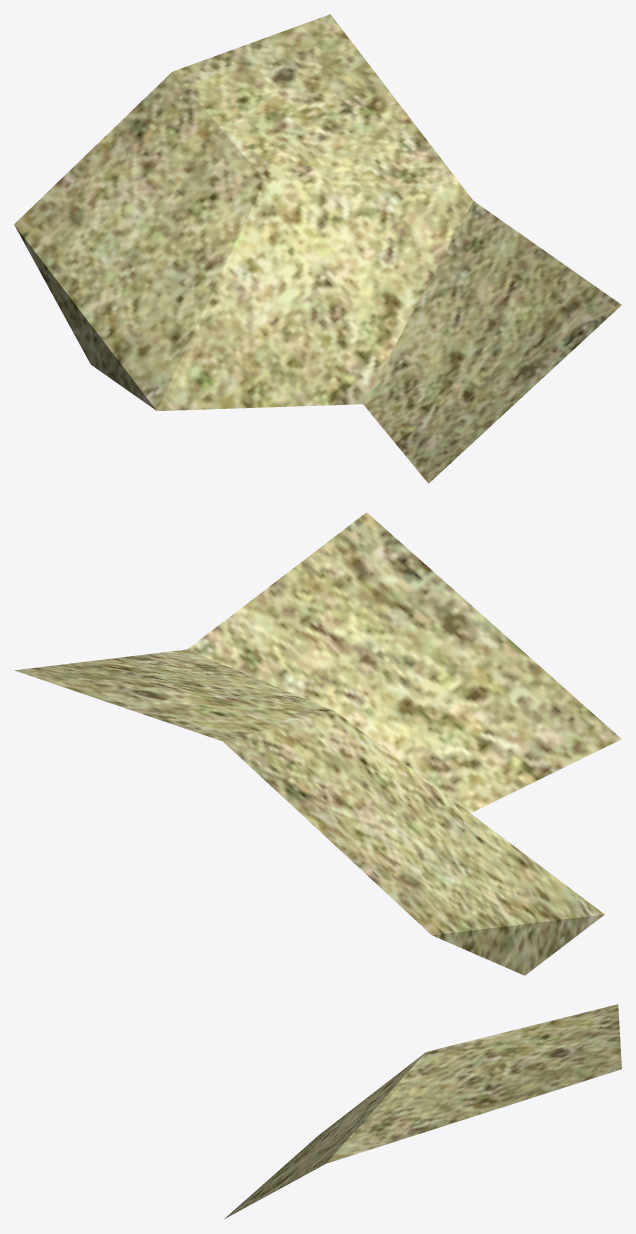
The model's file is iber_farmstead_b_hay.glb.
3 views of the same model, one above another, from view 1: azimuth 30°, elevation 25°; view 2: azimuth 150°, elevation 25°; view 3: azimuth 270°, elevation 25° (orthographic). The views are drawn at different scales.
Parts seen in each view (by area): view 1: Plane; view 2: Plane; view 3: Plane.
Part boxes in pixels (x1,y1,x2,y2): Plane: [14, 14, 621, 483]; Plane: [14, 512, 621, 975]; Plane: [224, 1004, 621, 1218].
Size of the model in its own units: 3.86 by 2.42 by 5.77.
Materials: 1 (1 with a texture image).
